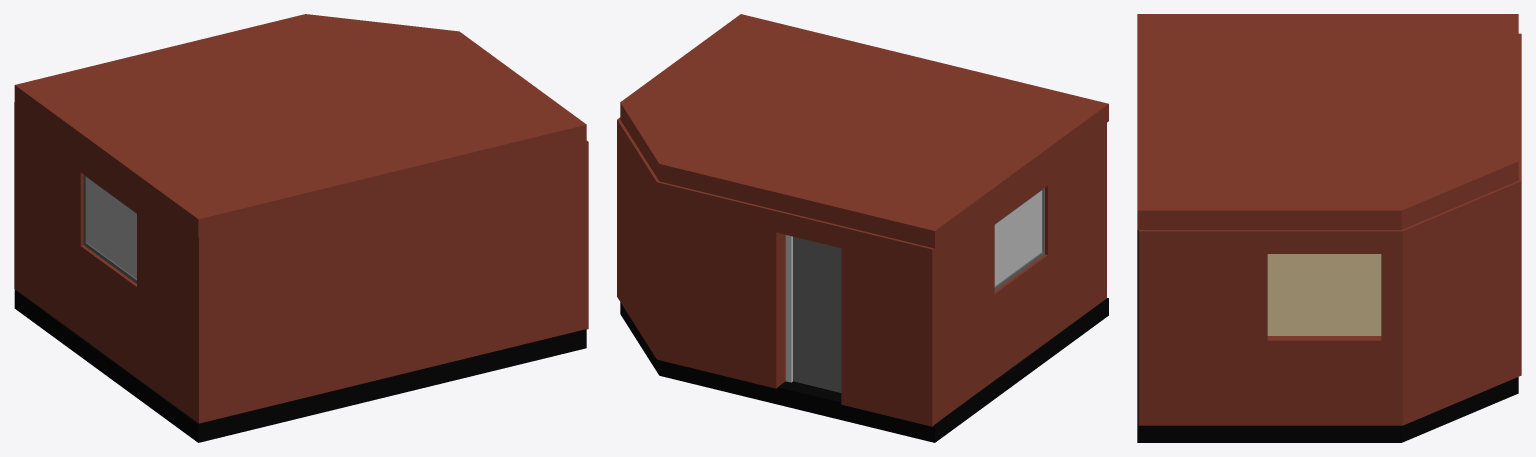
File: FloorPlan30_tmp.fbx
3 renders of one model, left to right at view 1: azimuth 30°, elevation 25°; view 2: azimuth 150°, elevation 25°; view 3: azimuth 270°, elevation 25°, orthographic. The views are drawn at different scales.
Visible parts, largest first — view 1: Cube.015, Cube.075, Cube.048, Cube.067; view 2: Cube.015, Cube.075, Cube.048, Cube.067; view 3: Cube.075, Cube.015, Cube.074, Cube.048.
Boxes of the visible parts, x1,y1,x2,y2 form: Cube.015: [14, 102, 588, 423]; Cube.075: [14, 14, 586, 237]; Cube.048: [14, 290, 586, 442]; Cube.067: [87, 177, 136, 278]; Cube.015: [617, 117, 1106, 426]; Cube.075: [620, 14, 1108, 248]; Cube.048: [620, 298, 1108, 442]; Cube.067: [994, 190, 1042, 286]; Cube.075: [1137, 14, 1518, 229]; Cube.015: [1138, 33, 1521, 425]; Cube.074: [1267, 254, 1381, 335]; Cube.048: [1137, 230, 1518, 442].
Size of the model in its own units: 480 by 262 by 394.
